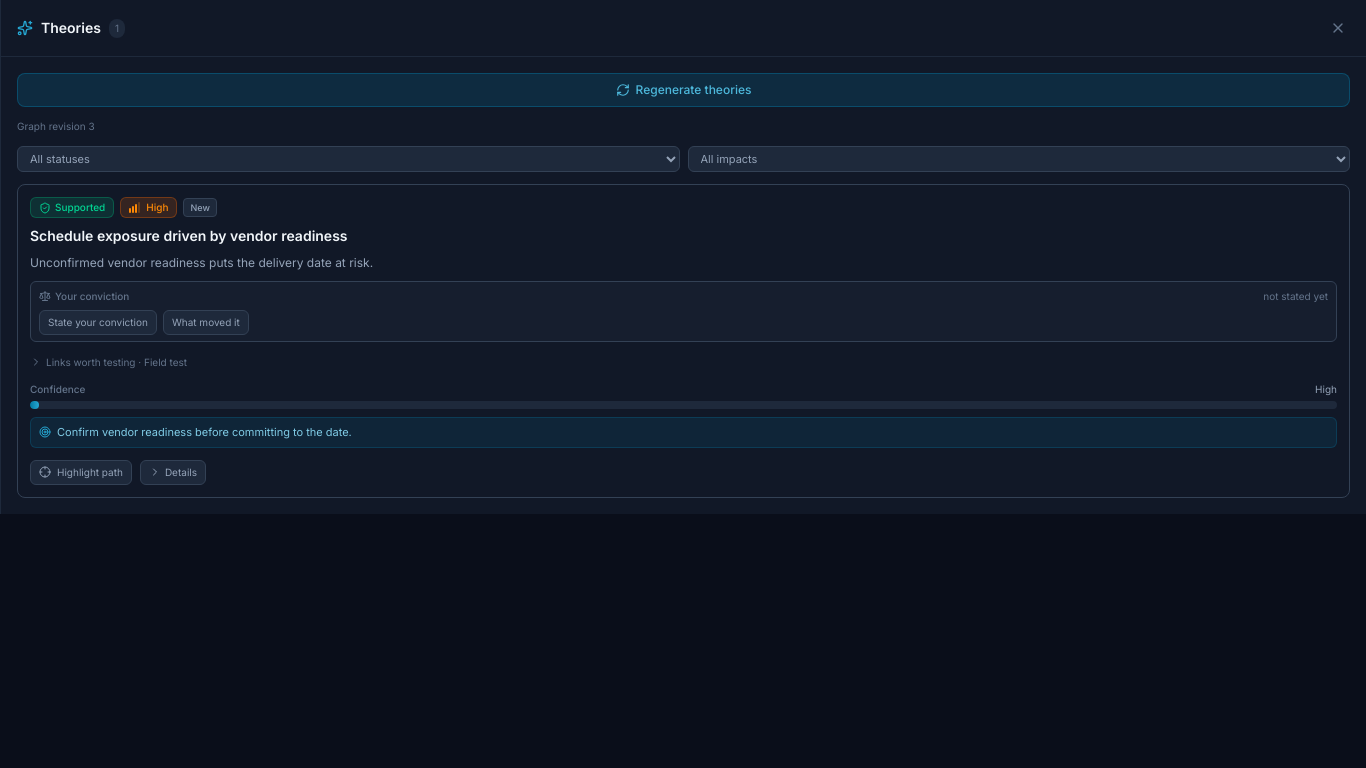
it: TheoryPanel content › shows evidence, weak assumptions and provenance counts when expanded
Click the button "Details". click: (173, 472)
box: [140,460,206,485]
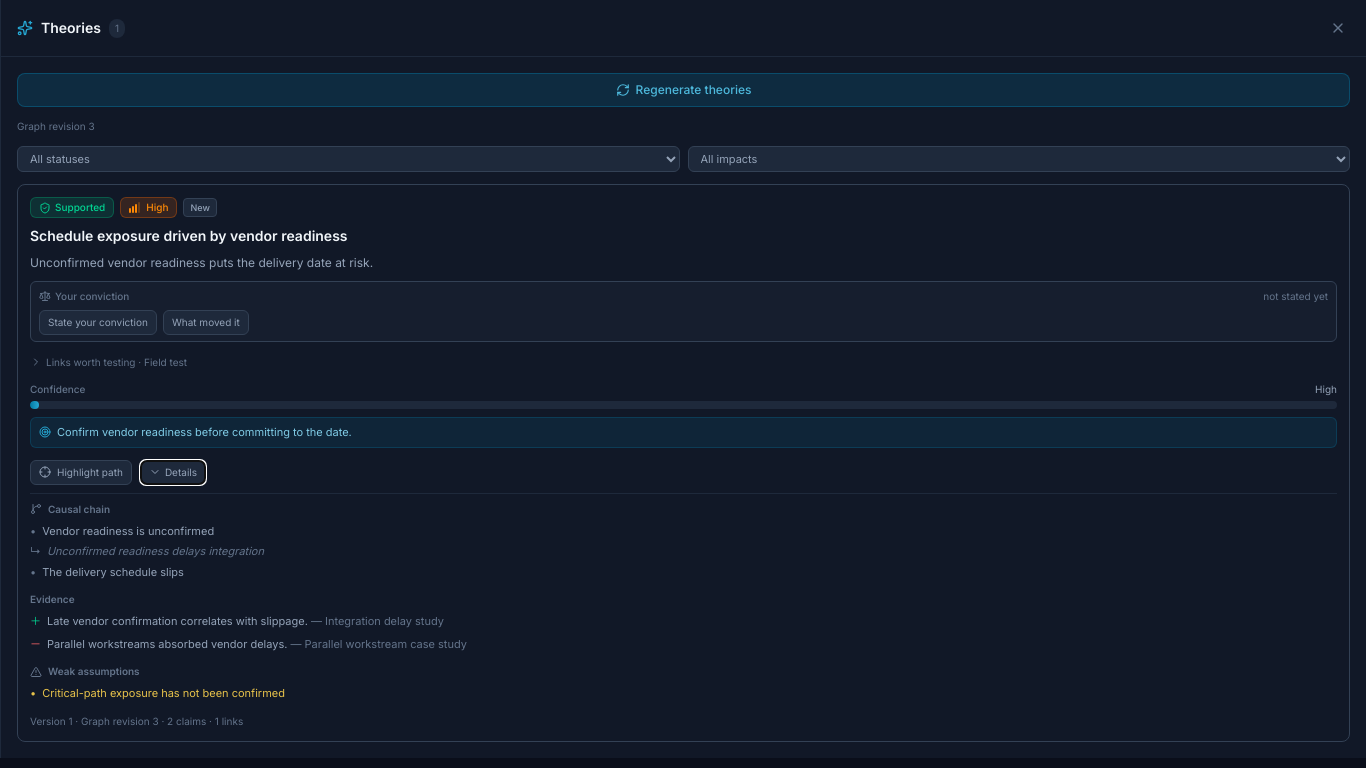
Expected: the text "Late vendor confirmation correlates" is shown, [47,614,308,628]
Expected: the text "Parallel workstreams absorbed" is shown, [47,637,287,651]
Expected: the text "Critical-path exposure has not been confirmed" is shown, [42,685,285,702]
